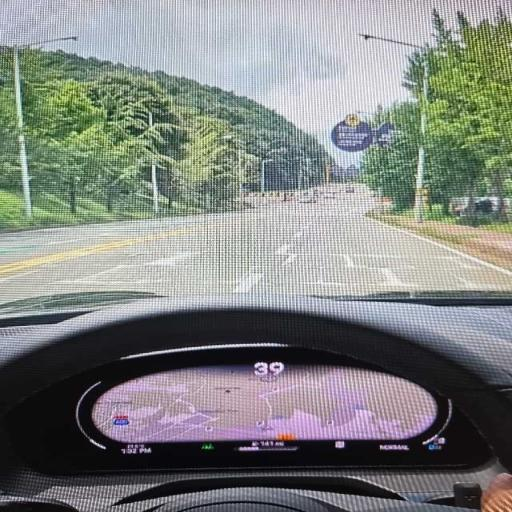car: (0, 0, 511, 511), (0, 296, 511, 511), (298, 191, 317, 203), (345, 186, 355, 193)
lane: (0, 192, 511, 301), (264, 194, 511, 295)
person: (481, 473, 511, 511)
